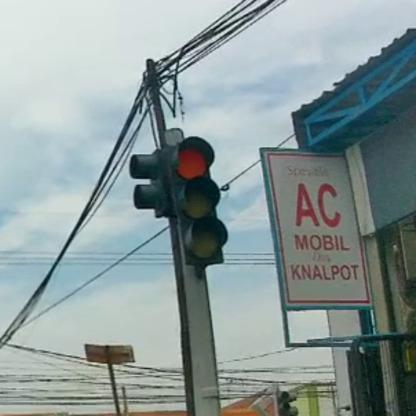red: (166, 136, 232, 267)
